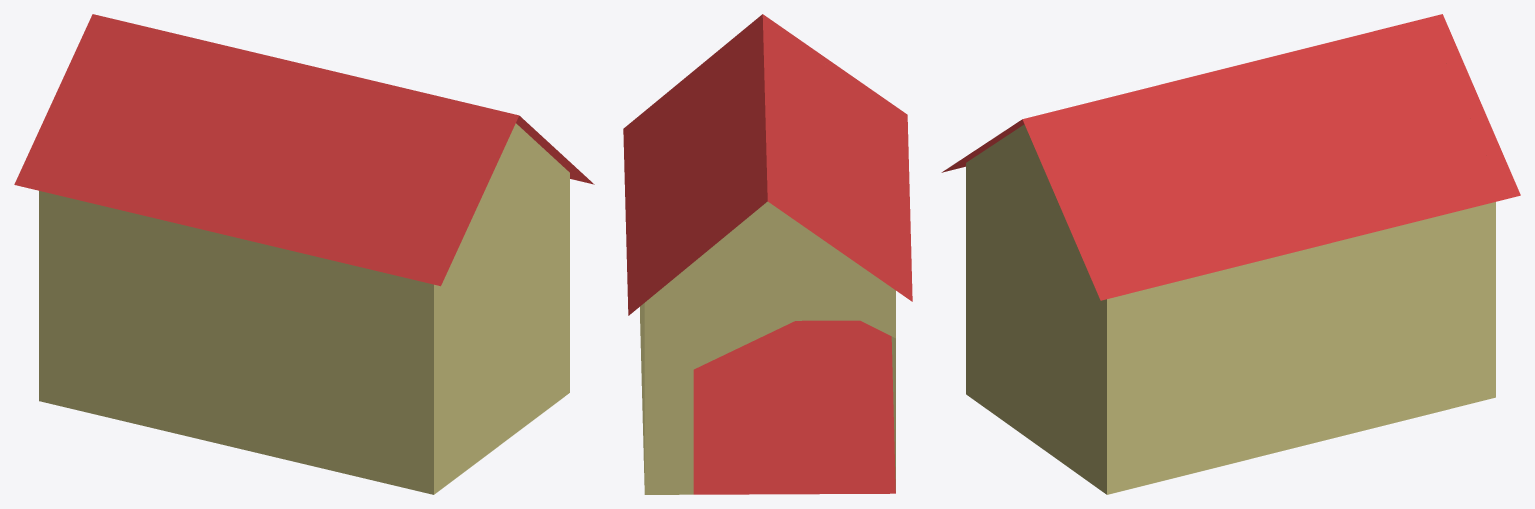
3 views of the same model, side by side, from view 1: azimuth 30°, elevation 25°; view 2: azimuth 150°, elevation 25°; view 3: azimuth 270°, elevation 25° (orthographic). The views are drawn at different scales.
Size of the model in its own units: 21.28 by 23.8 by 14.97.
